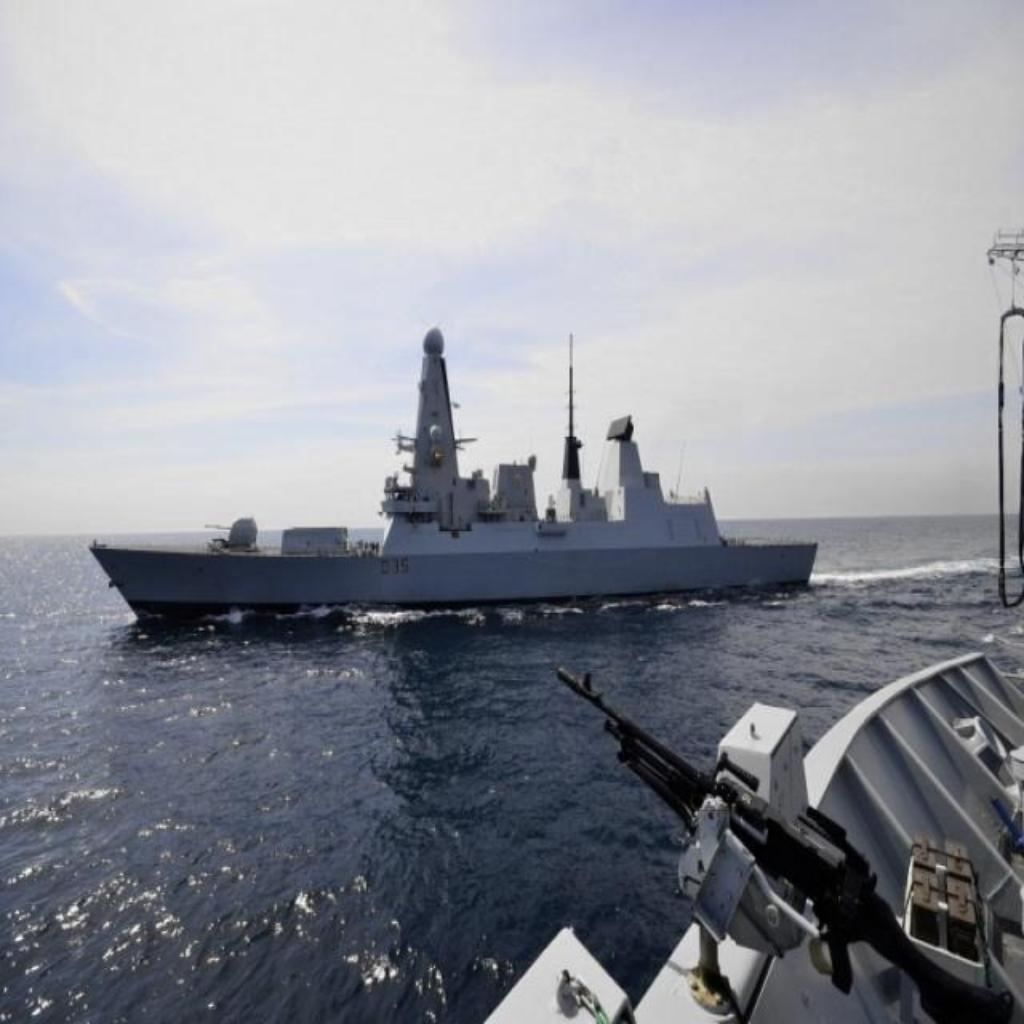Warship: (82, 318, 826, 620)
